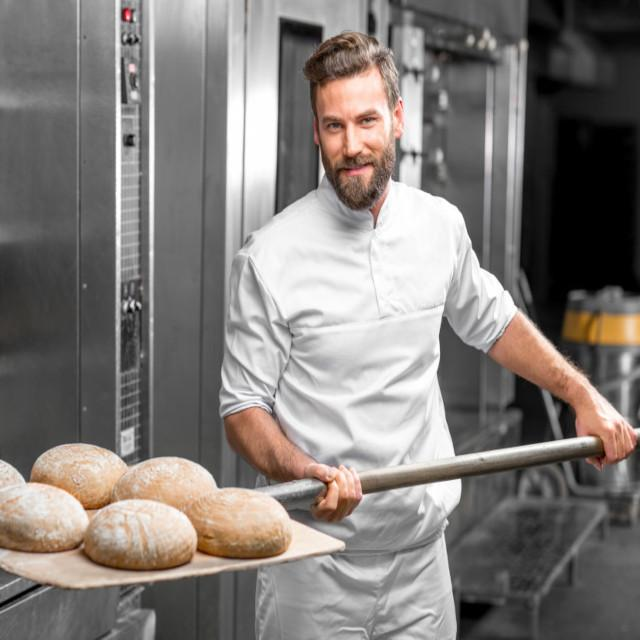mezczyzna: (227, 18, 633, 640)
